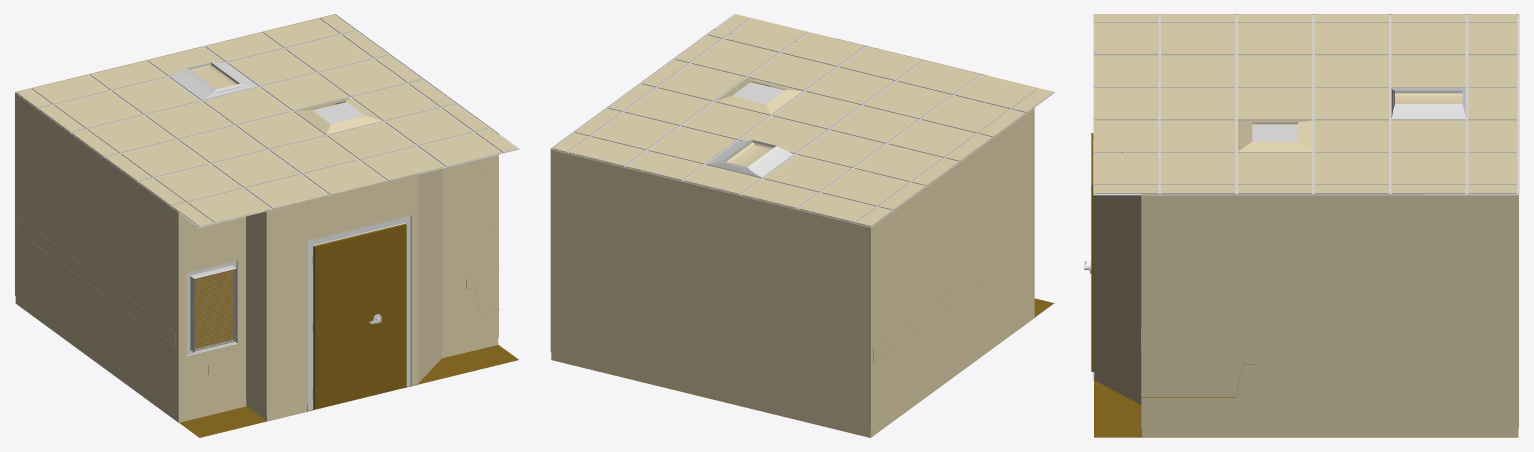
The model's file is MdClst_Walls.fbx.
3 renders of one model, left to right at view 1: azimuth 30°, elevation 25°; view 2: azimuth 150°, elevation 25°; view 3: azimuth 270°, elevation 25°, orthographic. The views are drawn at different scales.
Visible parts, largest first — view 1: Walls, Ceiling, Door_Entrance, Floor, Blinds_Small; view 2: Walls, Ceiling, Floor; view 3: Walls, Ceiling, Floor.
Boxes of the visible parts, box(x1,y1,x2,y2) form: Walls: box(15, 14, 498, 422); Ceiling: box(14, 14, 520, 227); Door_Entrance: box(314, 229, 383, 409); Floor: box(179, 270, 518, 437); Blinds_Small: box(194, 269, 235, 351); Walls: box(550, 29, 1034, 437); Ceiling: box(549, 14, 1055, 227); Floor: box(552, 298, 1054, 437); Walls: box(1091, 14, 1518, 437); Ceiling: box(1093, 14, 1519, 195); Floor: box(1094, 377, 1518, 437).
Size of the model in its own units: 14.22 by 9.17 by 14.45.
